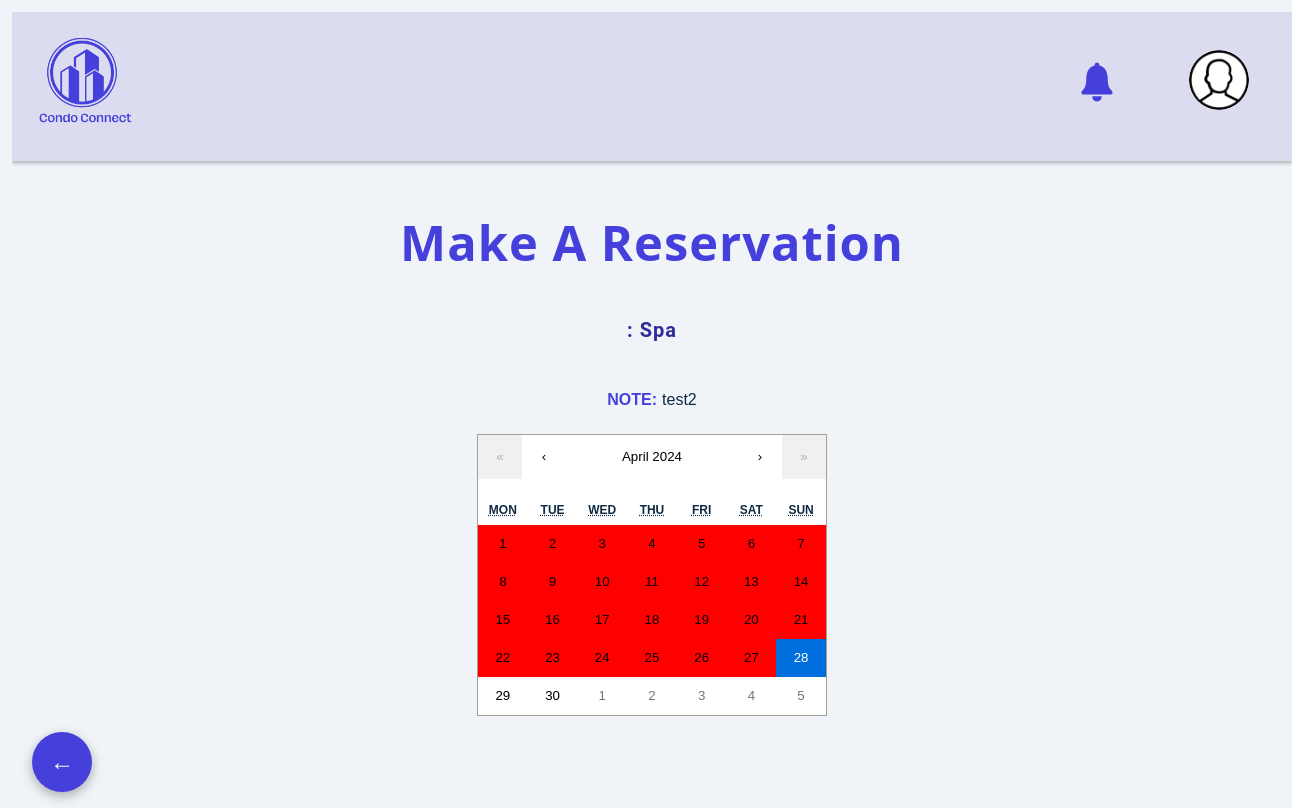
Test: Calendar Page › updates reservation status message when date is selected
Click the button "21": coordinates (801, 620) left=776, top=600, right=826, bottom=638
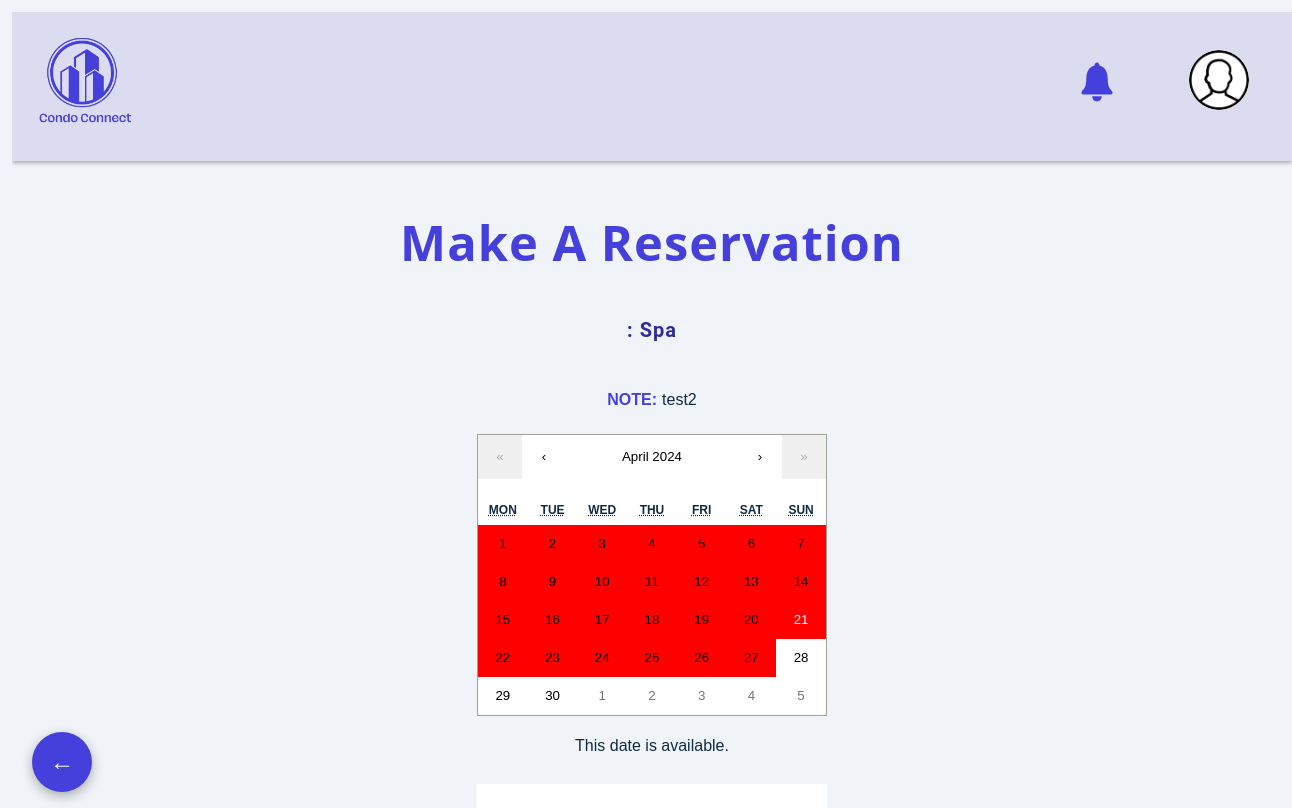
Expected: the text "This date is available." is shown, left=575, top=736, right=729, bottom=754
